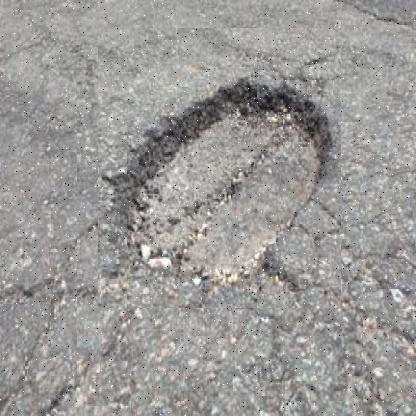pothole: (97, 28, 341, 309)
